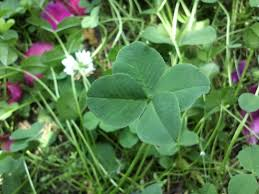4-clover: (85, 42, 209, 148)
